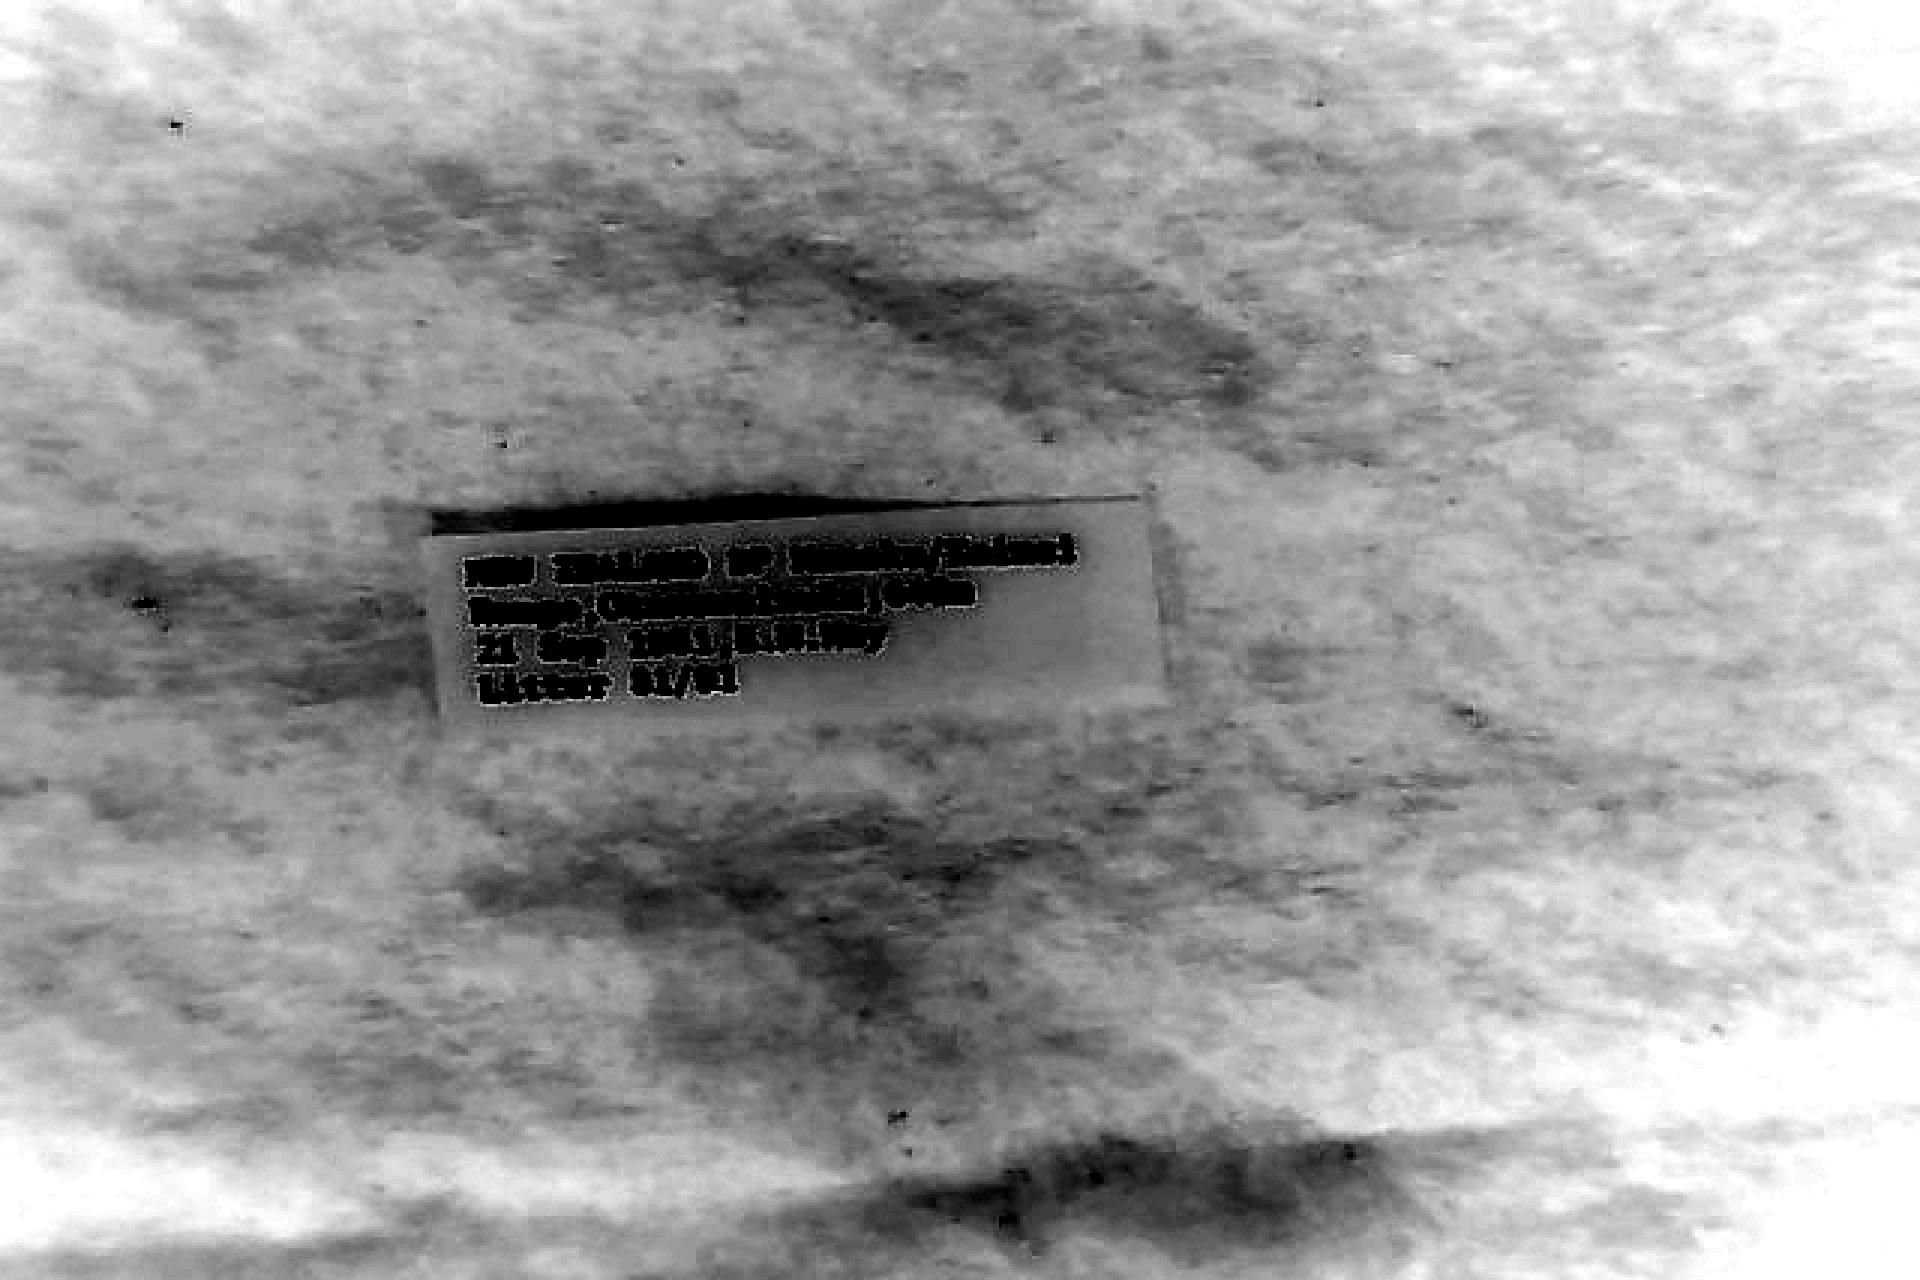typed_label: (427, 497, 1166, 729)
